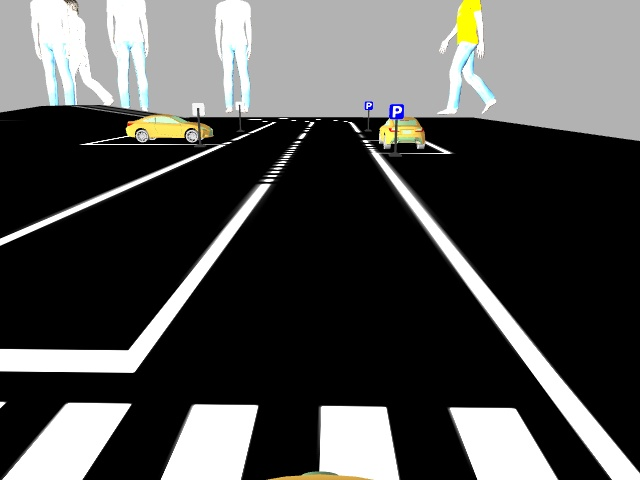Parking: (387, 103, 404, 120), (363, 100, 374, 110)
